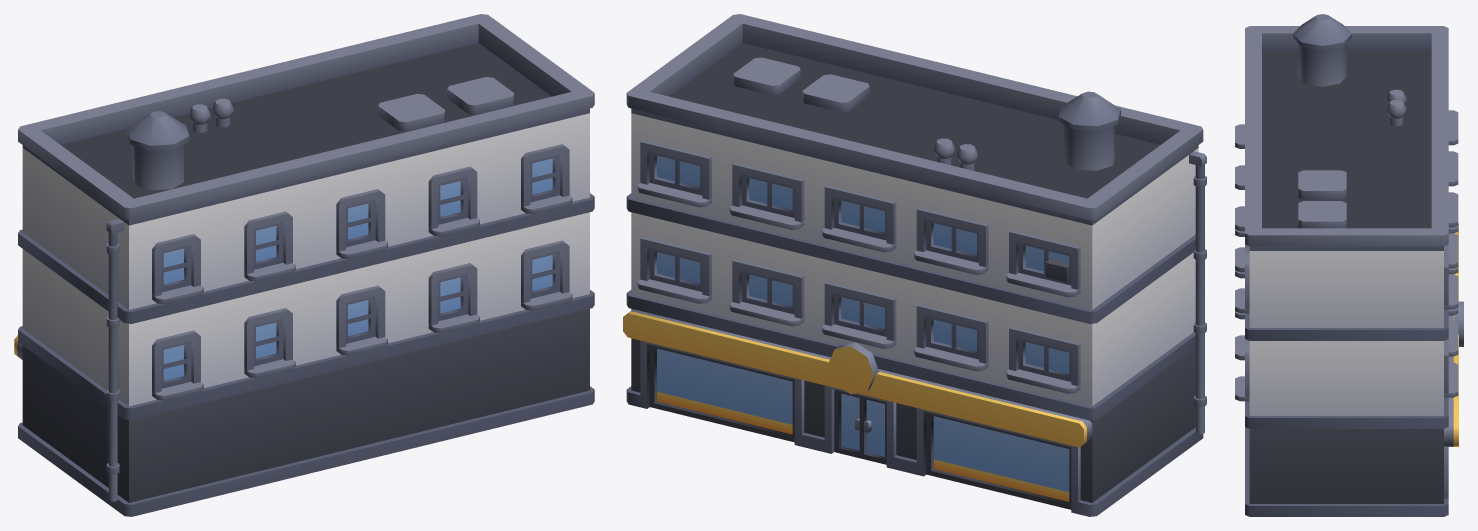
Rendered from city_10.fbx.
3 renders of one model, left to right at view 1: azimuth 30°, elevation 25°; view 2: azimuth 150°, elevation 25°; view 3: azimuth 270°, elevation 25°, orthographic. The views are drawn at different scales.
Visible parts, largest first — view 1: city_10; view 2: city_10; view 3: city_10.
Boxes of the visible parts, x1,y1,x2,y2 form: city_10: [14, 14, 594, 516]; city_10: [623, 14, 1206, 516]; city_10: [1235, 14, 1463, 516].
Size of the model in its own units: 2.08 by 1.47 by 0.942.
1 material, 1 textured.
